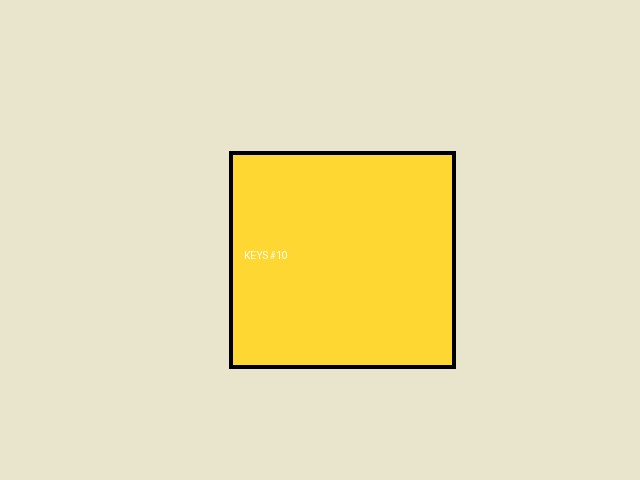keys: (229, 151, 455, 368)
